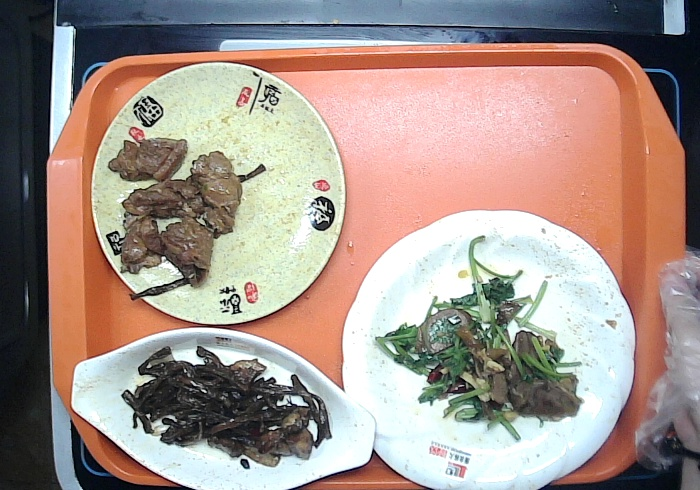NLDX-Bai_Zhe_Yuan_Pan: (337, 208, 634, 490)
NLDX-Fu_Zi_Yuan_Pan: (85, 58, 347, 327)
NLDX-Yu_Pan: (70, 326, 377, 490)
